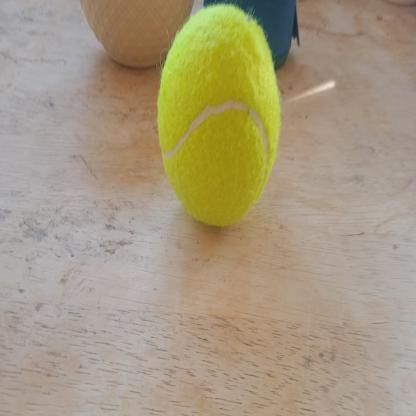Tennis: (156, 0, 283, 232)
